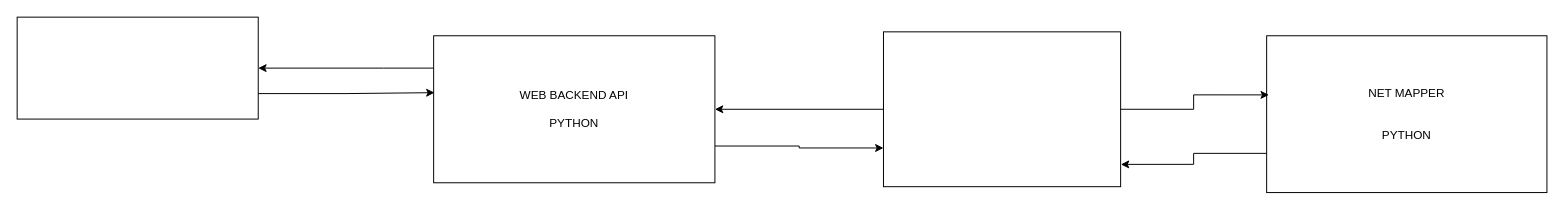
The diagram is 1564 pixels wide and 210 high, and some of its shapes have lost their labels. Each missing label, with the centre of its shape:
RABBITMQ: the point at 1001,109
WEB FRONTEND JAVASCRIPT: the point at 137,67
